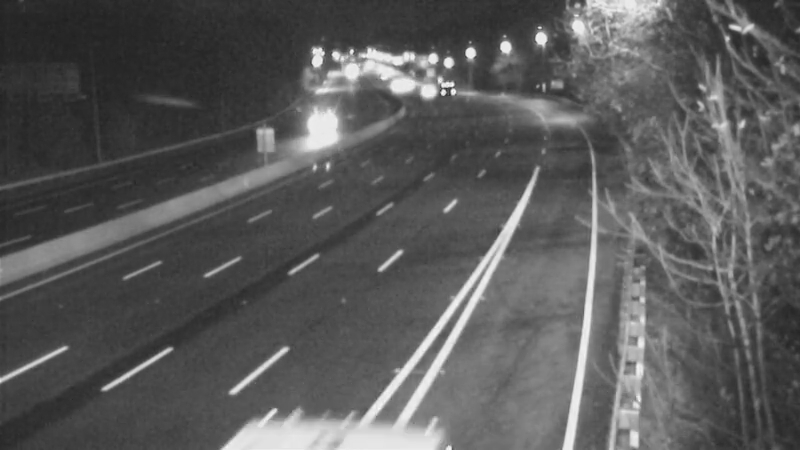vehicle: (371, 59, 421, 109), (413, 61, 463, 111), (398, 66, 448, 116), (304, 99, 354, 149)
